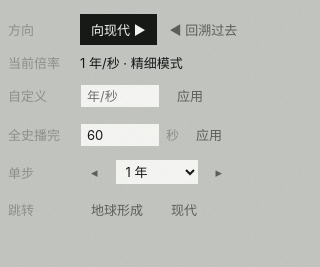
Test: PlaybackSettings › validates custom rates and picks the matching mode
The width and height of the screenshot is (320, 267).
Type "-3" into the number field with test id "custom-rate" at point(120, 96), box [80,84,160,108]
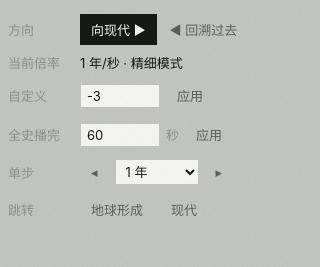
Click the button with test id "apply-custom-rate" at point(190, 96), box [166,80,214,111]
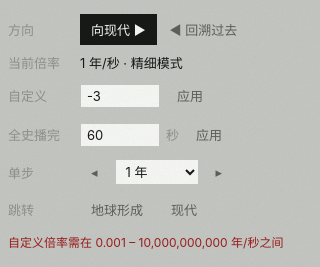
Expected: the message with test id "playback-error" shows "自定义倍率", [8,235,283,250]
Replace the text in the number field with test id "custom-rate" with "50000" at point(120, 96), box [80,84,160,108]
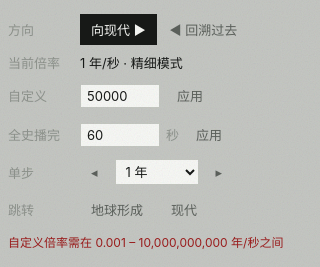
Click the button with test id "apply-custom-rate" at point(190, 96), box [166,80,214,111]
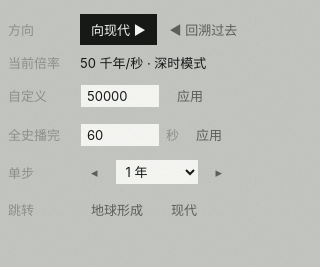
Expected: the message with test id "playback-error" is gone
